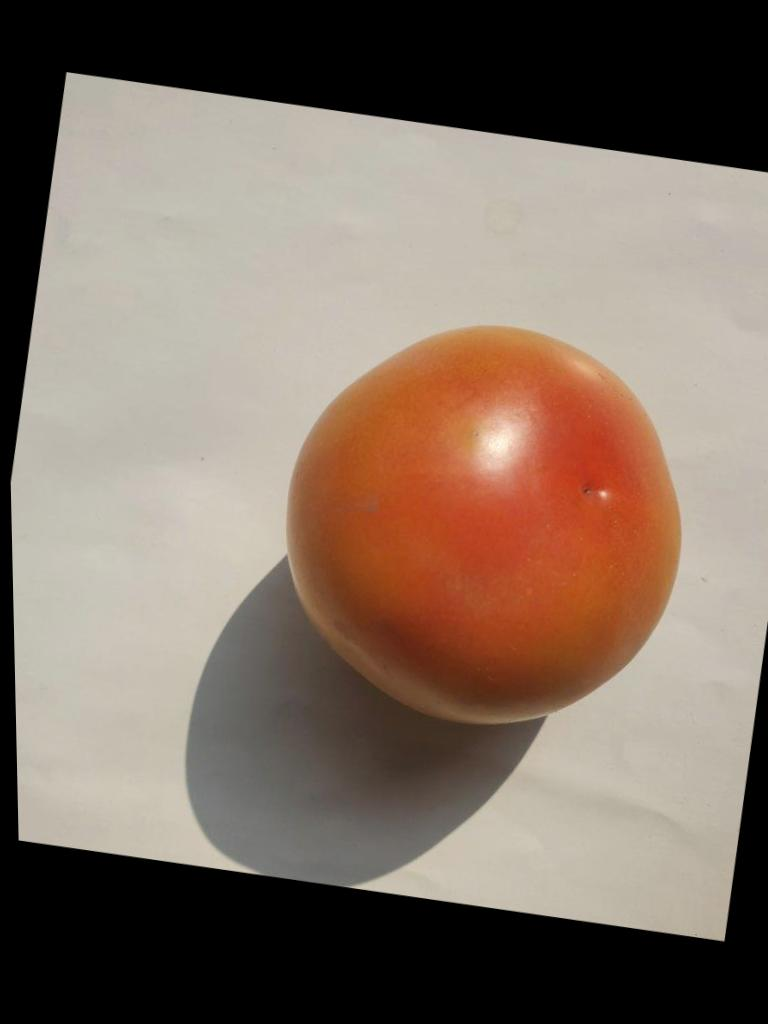tomato: (286, 326, 678, 723)
